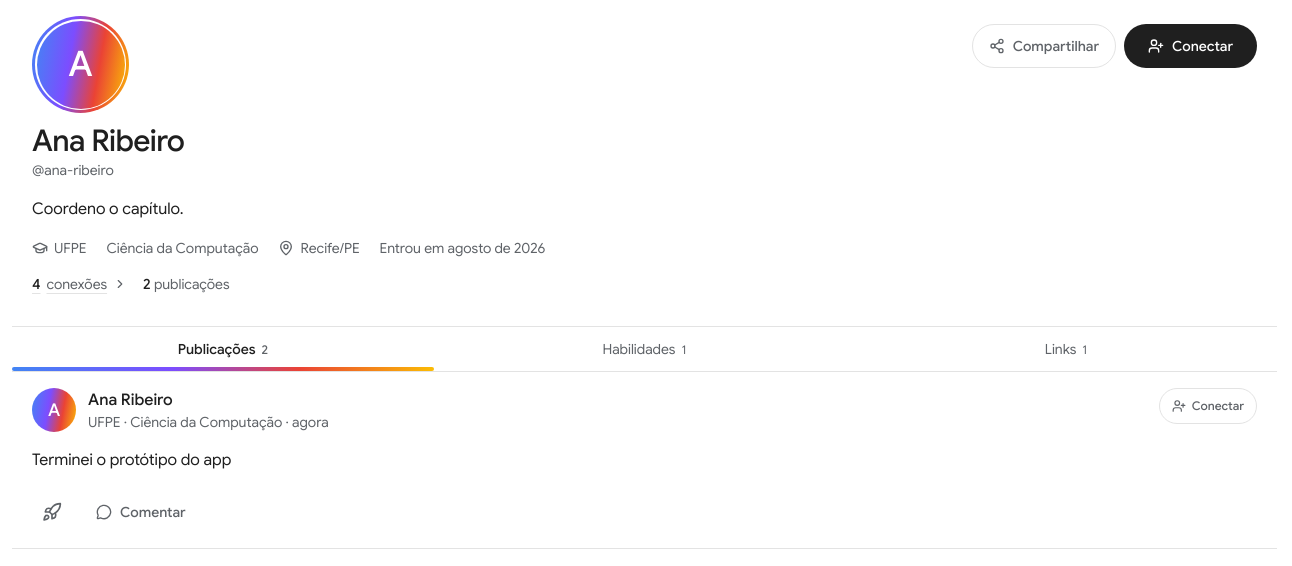
Scenario: apresentação do perfil › troca de aba sem trocar de página
This screenshot has width=1292, height=566.
What coordinates should you click on to do the following:
click the tab "Habilidades1"
I would click on:
 (645, 349)
Its box is x1=434 y1=327 x2=855 y2=371.
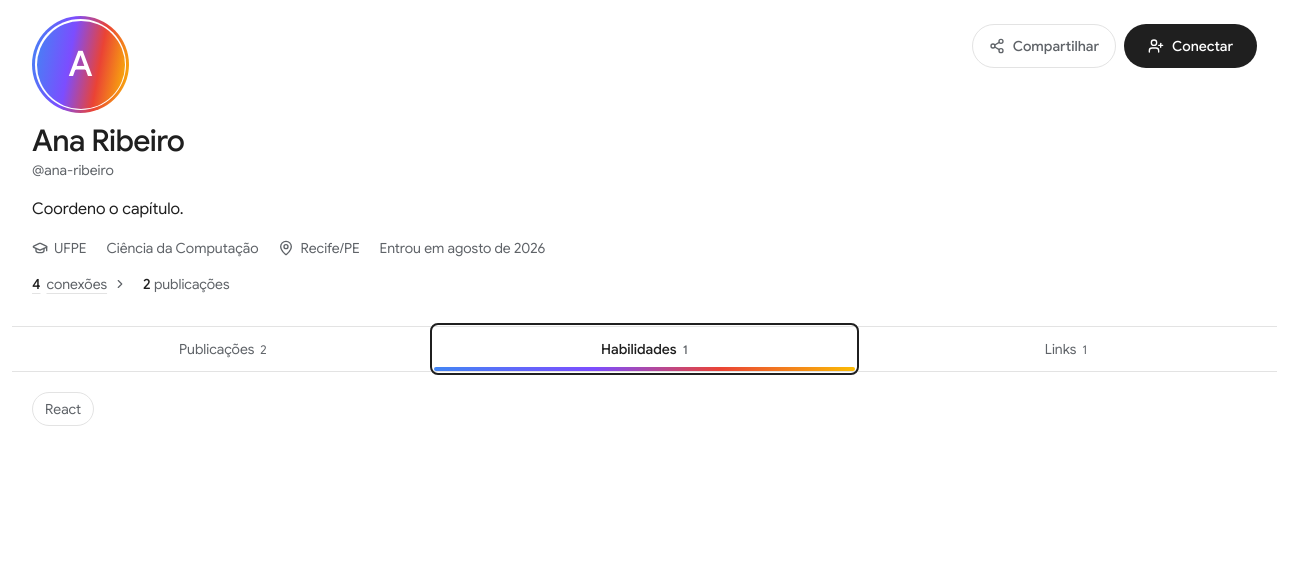
Check: the list item "React" is shown, box x1=32 y1=392 x2=94 y2=426
Check: the text "Terminei o protótipo do app" is gone
